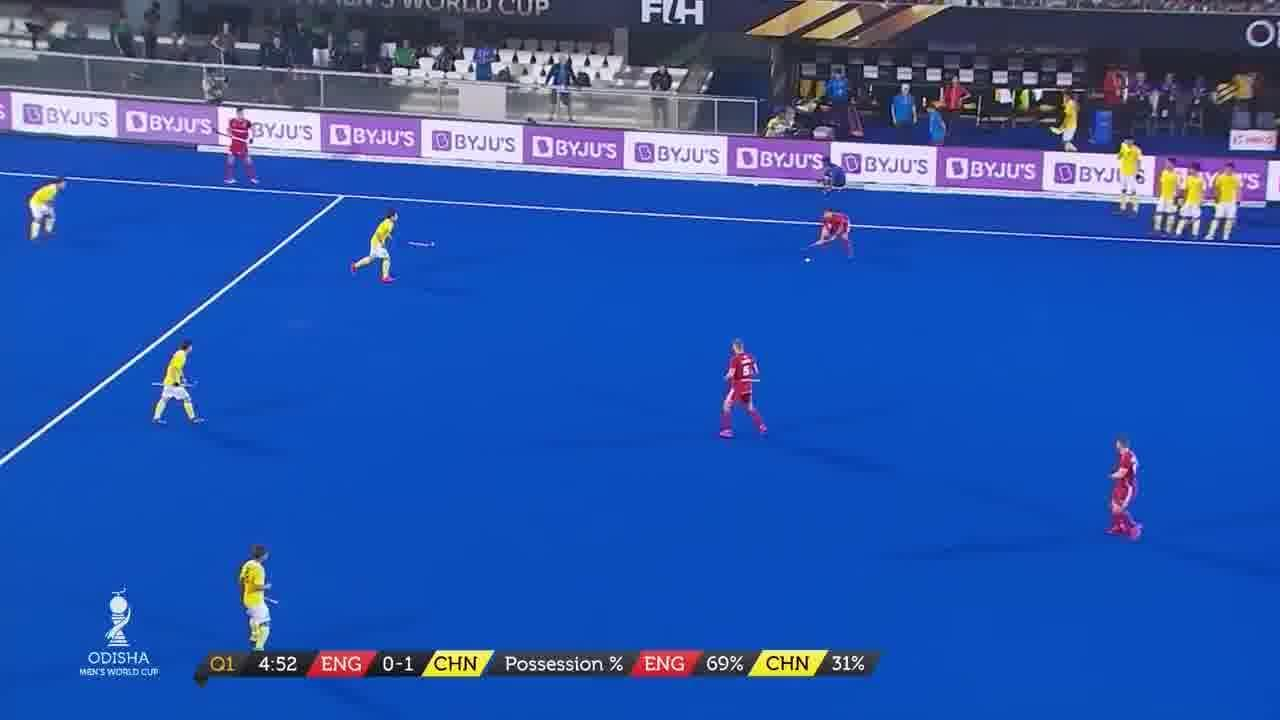ball: (803, 254, 814, 266)
